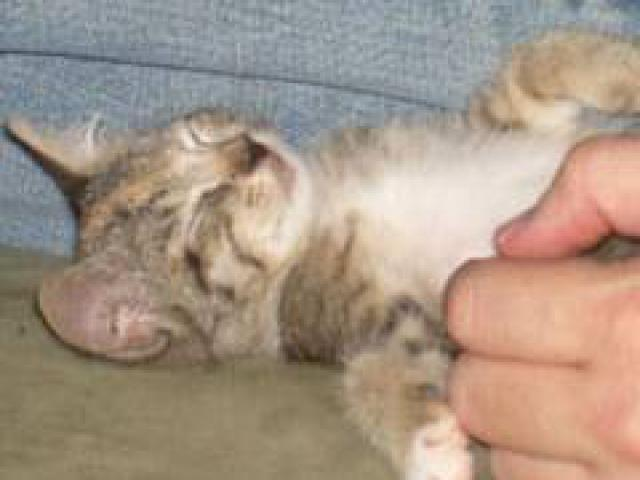cat: (4, 50, 633, 428)
